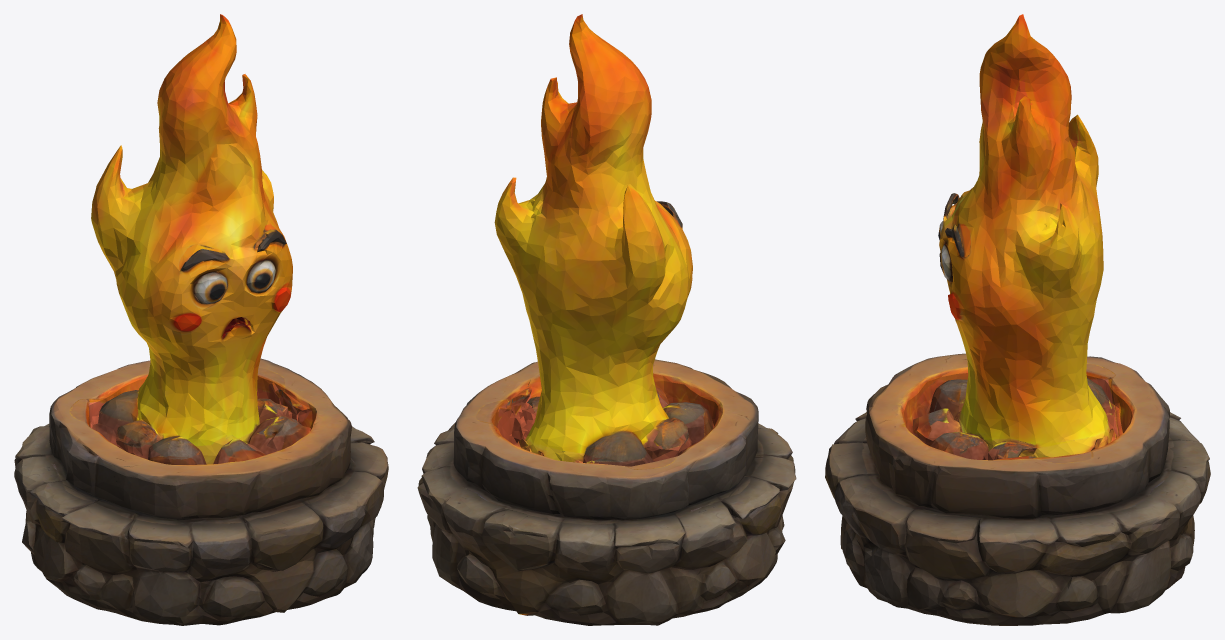
The model's file is 전체_형태_바닥_0508010609_texture.fbx.
3 renders of one model, left to right at view 1: azimuth 30°, elevation 25°; view 2: azimuth 150°, elevation 25°; view 3: azimuth 270°, elevation 25°, orthographic. The views are drawn at different scales.
Visible parts, largest first — view 1: temp; view 2: temp; view 3: temp.
Boxes of the visible parts, x1=… form: temp: x1=14, y1=14, x2=388, y2=625; temp: x1=417, y1=14, x2=796, y2=625; temp: x1=825, y1=14, x2=1210, y2=625.
Size of the model in its own units: 125 by 201 by 126.
1 material, 1 textured.
